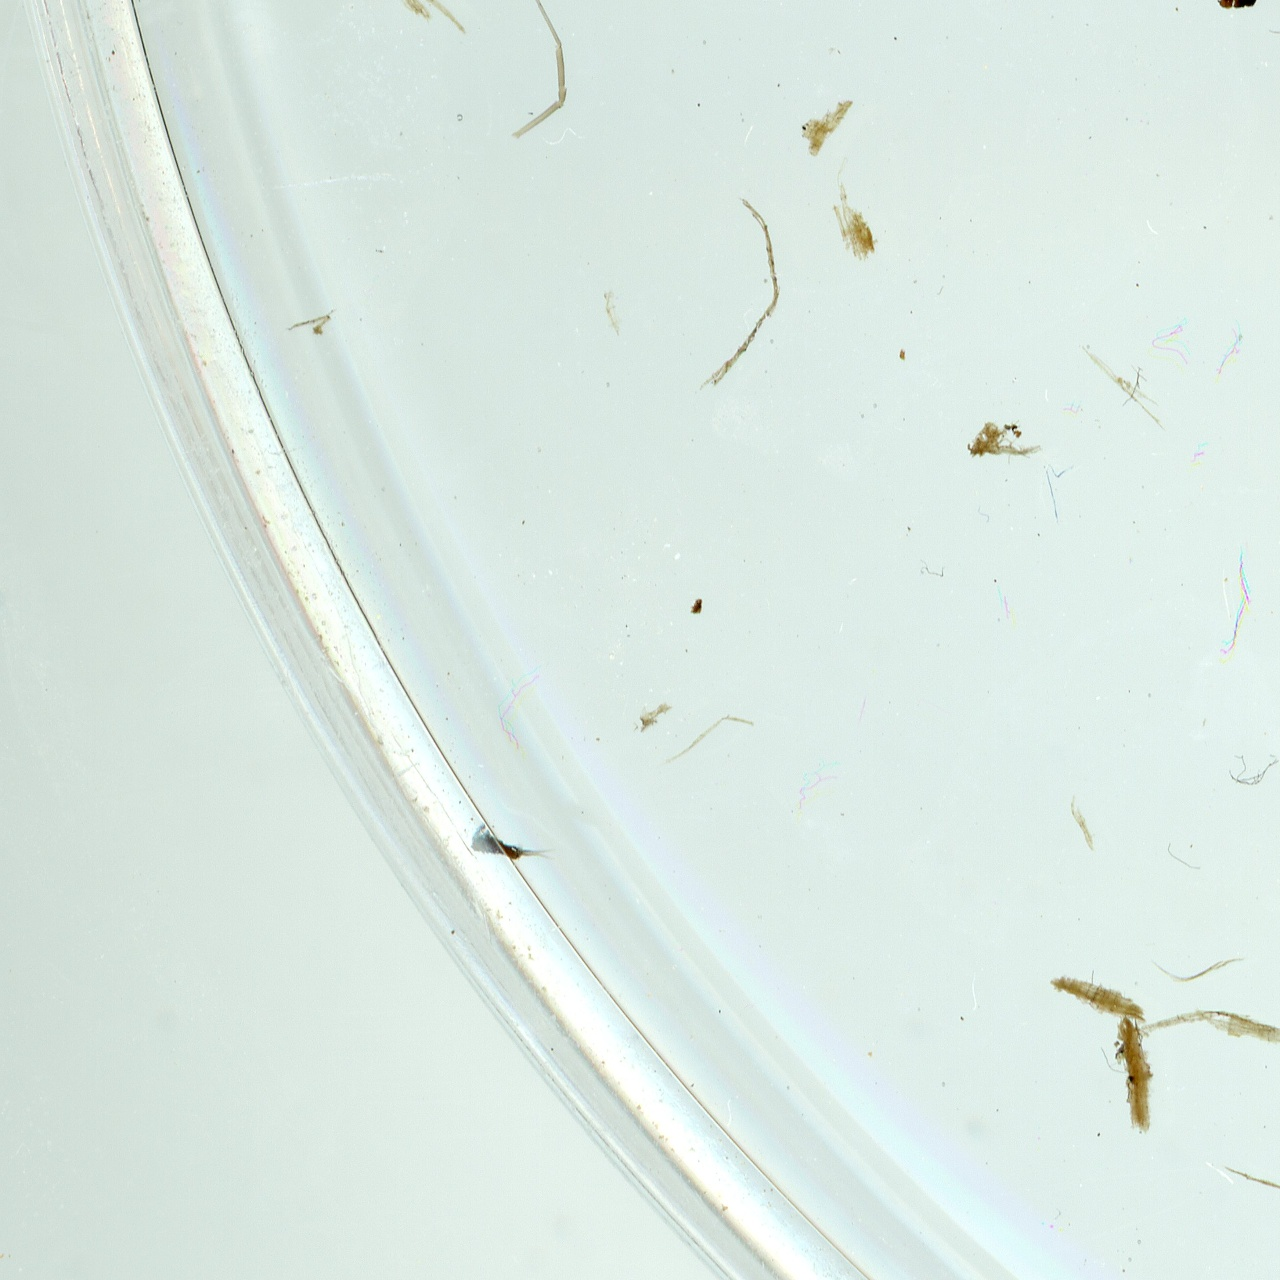arthropod: (466, 818, 564, 868)
